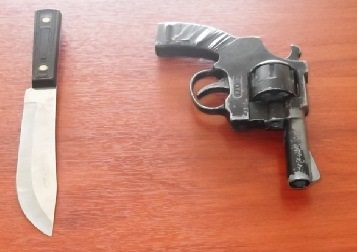knife: (13, 62, 61, 243)
